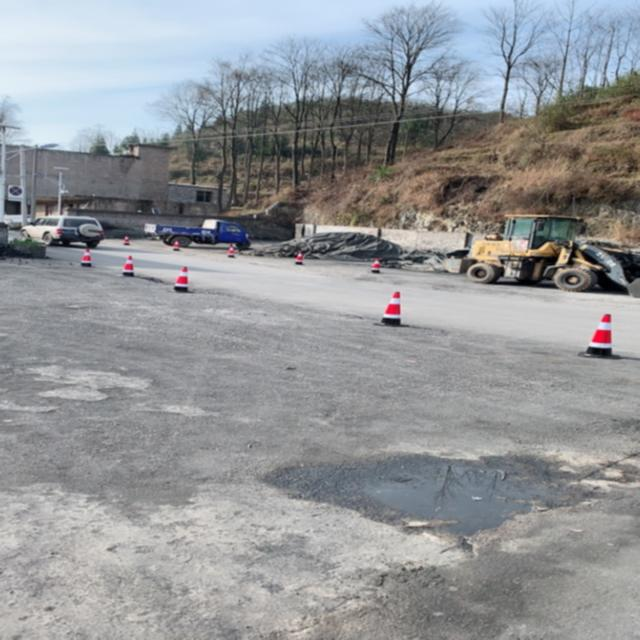car: (19, 215, 104, 248)
reflective_cone: (572, 314, 620, 358), (372, 291, 408, 327), (163, 266, 196, 292), (116, 256, 138, 276), (76, 248, 96, 266), (367, 257, 383, 273), (292, 250, 306, 264), (224, 245, 237, 257), (170, 239, 181, 251), (122, 235, 130, 245)
tricycle: (143, 218, 251, 248)
